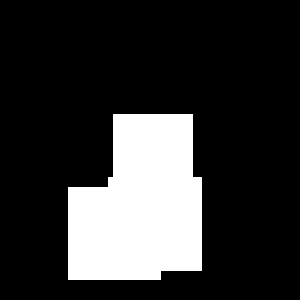circle: (108, 177, 202, 271), (68, 187, 161, 280), (113, 114, 193, 194)
